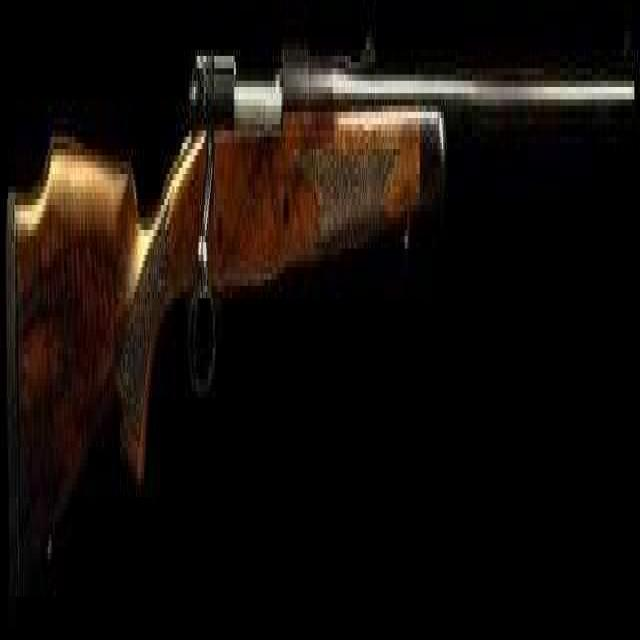heavyweapon: (1, 7, 640, 640)
